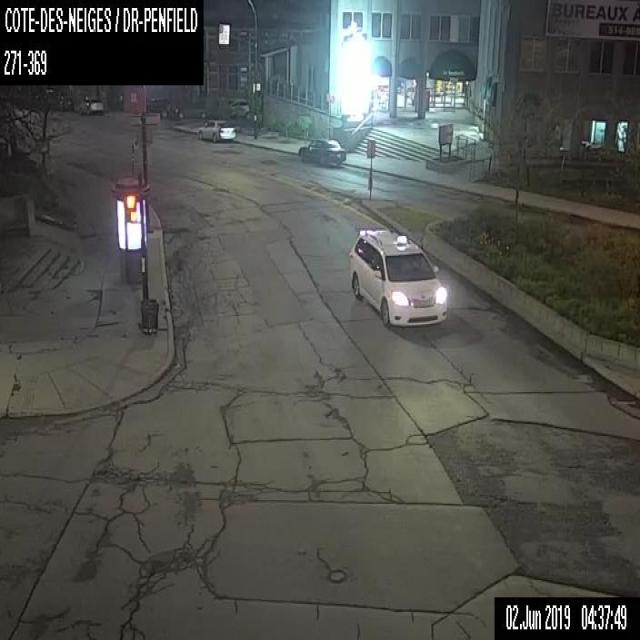vehicle: (348, 228, 447, 328), (298, 136, 346, 165), (196, 116, 236, 142), (78, 93, 102, 115), (230, 97, 249, 116)
